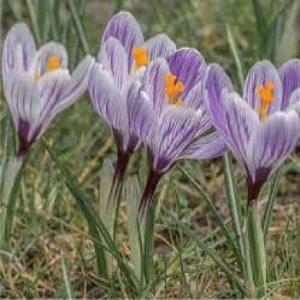Saffron: (126, 47, 231, 185), (89, 13, 182, 159), (205, 56, 300, 195), (0, 19, 96, 156)
